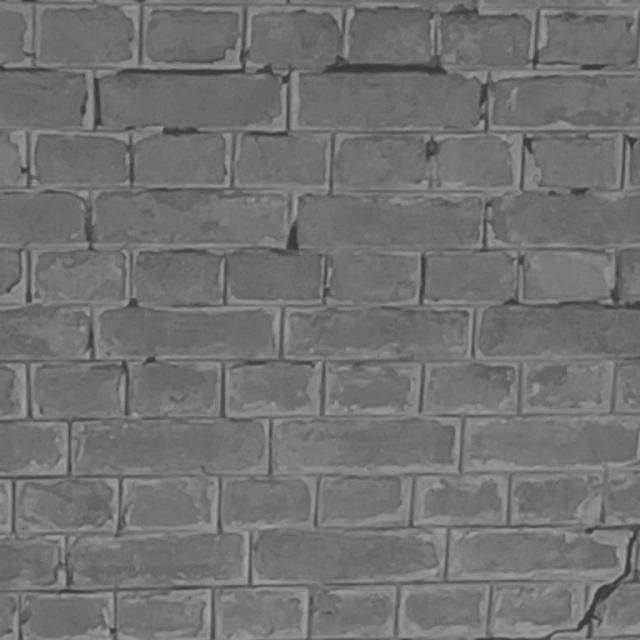crack: (545, 524, 639, 640)
